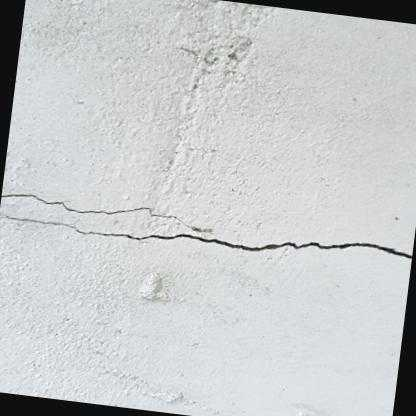crack: (0, 214, 412, 259), (0, 193, 194, 228)
